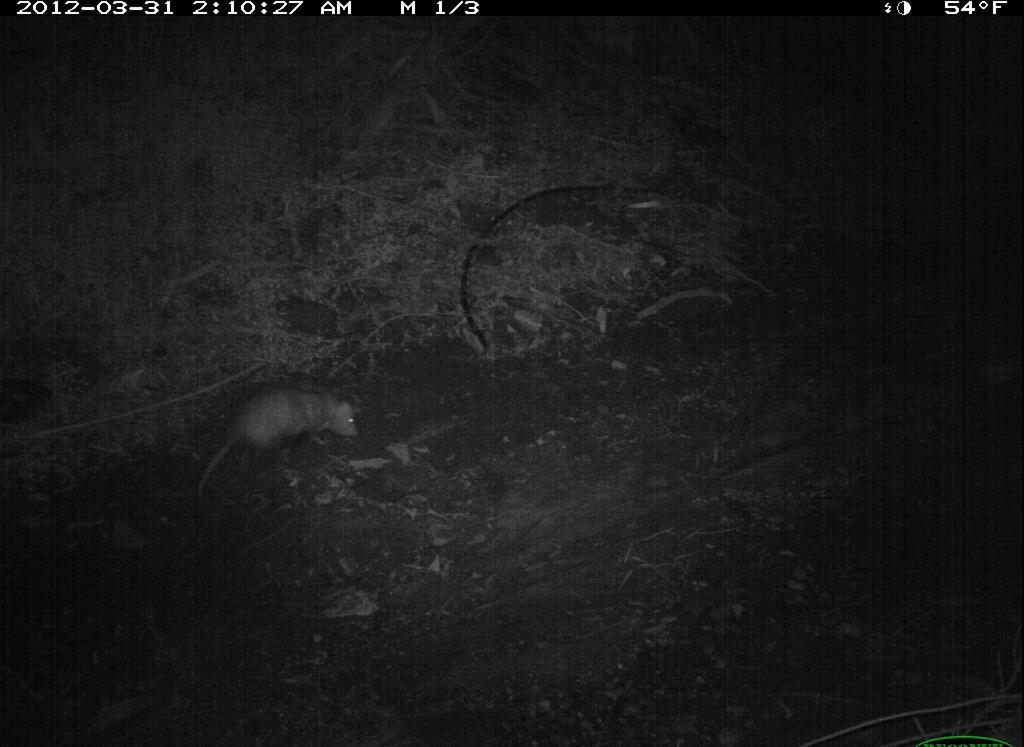opossum: (178, 372, 386, 500)
